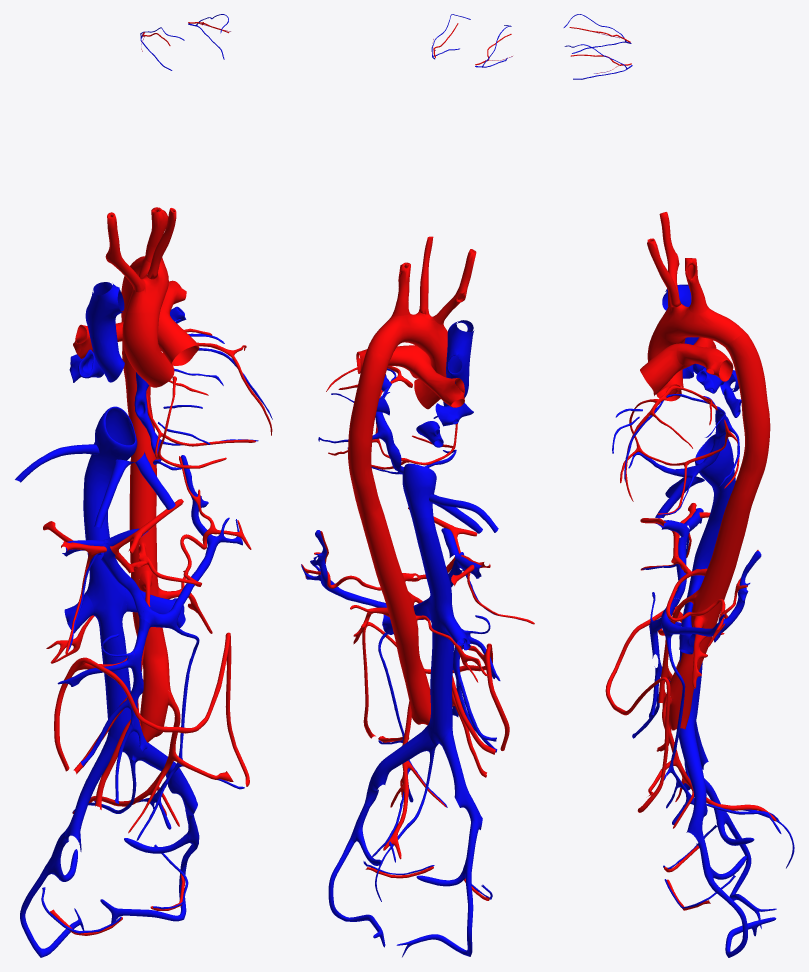
The model's file is vasculature.glb.
3 renders of one model, left to right at view 1: azimuth 30°, elevation 25°; view 2: azimuth 150°, elevation 25°; view 3: azimuth 270°, elevation 25°, orthographic. The views are drawn at different scales.
Parts seen in each view (by area): view 1: VH_F_left_uterine_vein, VH_F_left_uterine_artery, VH_F_inferior_ophthalmic_vein_L, VH_F_central_retinal_artery_R; view 2: VH_F_left_uterine_vein, VH_F_left_uterine_artery, VH_F_central_retinal_artery_R, VH_F_inferior_ophthalmic_vein_L; view 3: VH_F_left_uterine_artery, VH_F_left_uterine_vein, VH_F_central_retinal_artery_R, VH_F_inferior_ophthalmic_vein_L.
Boxes of the visible parts, left/top/right/bottom form: VH_F_left_uterine_vein: left=15, top=282, right=272, bottom=957; VH_F_left_uterine_artery: left=43, top=207, right=272, bottom=935; VH_F_inferior_ophthalmic_vein_L: left=83, top=14, right=230, bottom=752; VH_F_central_retinal_artery_R: left=121, top=22, right=230, bottom=742; VH_F_left_uterine_vein: left=301, top=320, right=523, bottom=957; VH_F_left_uterine_artery: left=301, top=236, right=534, bottom=900; VH_F_central_retinal_artery_R: left=348, top=23, right=512, bottom=725; VH_F_inferior_ophthalmic_vein_L: left=402, top=14, right=511, bottom=745; VH_F_left_uterine_artery: left=605, top=212, right=776, bottom=910; VH_F_left_uterine_vein: left=612, top=284, right=794, bottom=957; VH_F_central_retinal_artery_R: left=569, top=27, right=770, bottom=730; VH_F_inferior_ophthalmic_vein_L: left=563, top=14, right=735, bottom=725.
Bounding box in the file's own units: 0.1928 × 0.799 × 0.1847.
